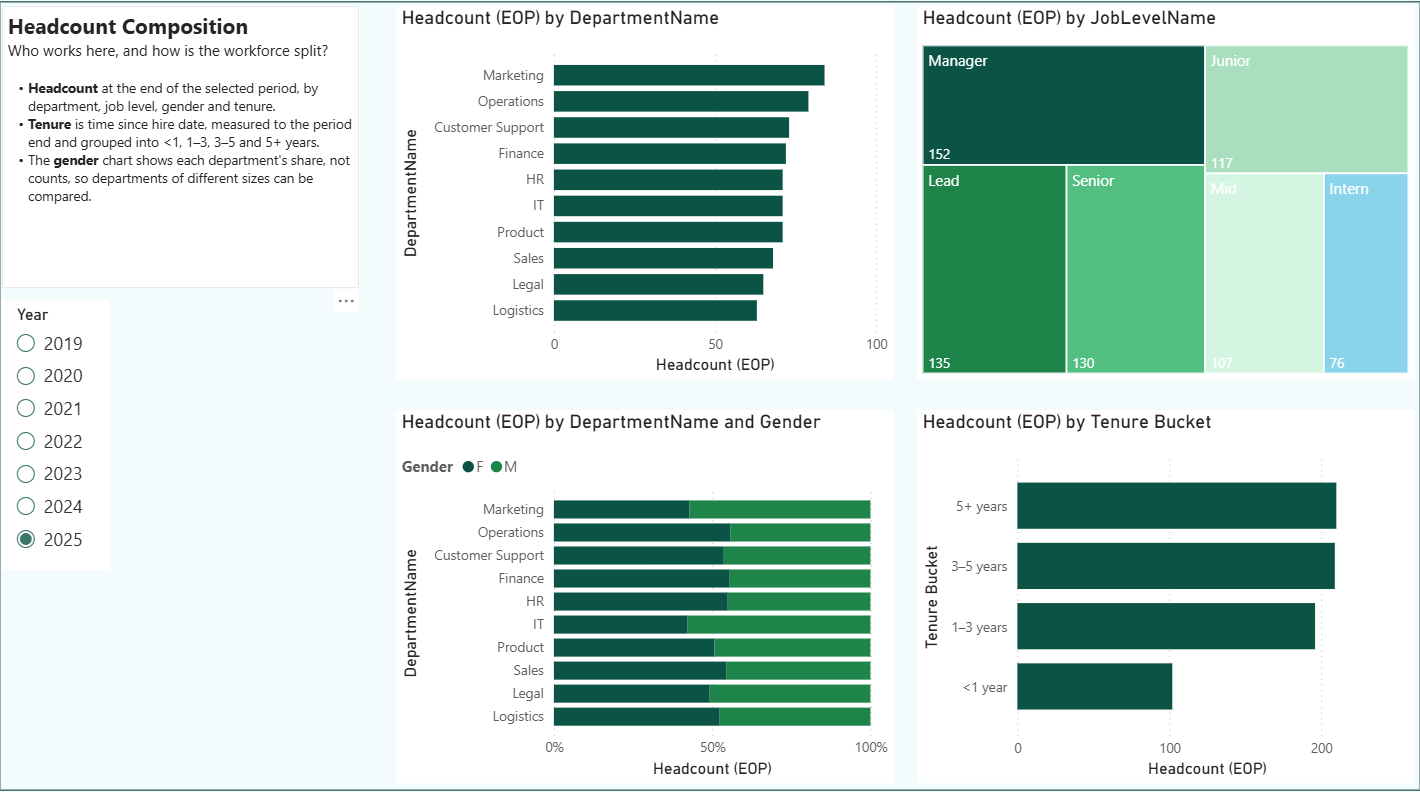

Layout of this report page (visuals, bound fields, positions):
{"tool":"powerbi","page":{"name":"Headcount Composition","canvas":[1280,720],"ordinal":2},"visuals":[{"type":"shape","box":[0,0,1280.4,720],"z":0},{"type":"slicer","fields":{"Values":["Calendar.Year"]},"box":[12.4,275,95,240],"z":1000},{"type":"barChart","fields":{"Category":["dim_department.DepartmentName"],"Y":["(_Measures).Headcount (EOP)"]},"box":[361.8,14.2,440.7,330.7],"z":2000},{"type":"treemap","fields":{"Group":["dim_joblevel.JobLevelName"],"Values":["(_Measures).Headcount (EOP)"]},"box":[823.7,14.2,440.7,330.7],"z":3000},{"type":"hundredPercentStackedBarChart","fields":{"Category":["dim_department.DepartmentName"],"Series":["fact_monthly_snapshot.Gender"],"Y":["(_Measures).Headcount (EOP)"]},"box":[361.8,372.4,440.7,330.7],"z":4000},{"type":"barChart","fields":{"Category":["fact_monthly_snapshot.Tenure Bucket"],"Y":["(_Measures).Headcount (EOP)"]},"box":[823.7,372.4,440.7,330.7],"z":5000},{"type":"textbox","box":[12.4,14.2,316.9,249.7],"z":6000}]}

Visuals, with their boxes in screenshot pixels (x1, y1, x2, y2), scaled from the page's 1280x720 canvas onto the 1420x792 screenshot:
shape: BBox(0, 0, 1419, 791)
slicer - Calendar.Year: BBox(14, 302, 119, 566)
barChart - dim_department.DepartmentName x (_Measures).Headcount (EOP): BBox(401, 16, 890, 379)
treemap - dim_joblevel.JobLevelName x (_Measures).Headcount (EOP): BBox(914, 16, 1403, 379)
hundredPercentStackedBarChart - dim_department.DepartmentName x fact_monthly_snapshot.Gender: BBox(401, 410, 890, 773)
barChart - fact_monthly_snapshot.Tenure Bucket x (_Measures).Headcount (EOP): BBox(914, 410, 1403, 773)
textbox: BBox(14, 16, 365, 290)
